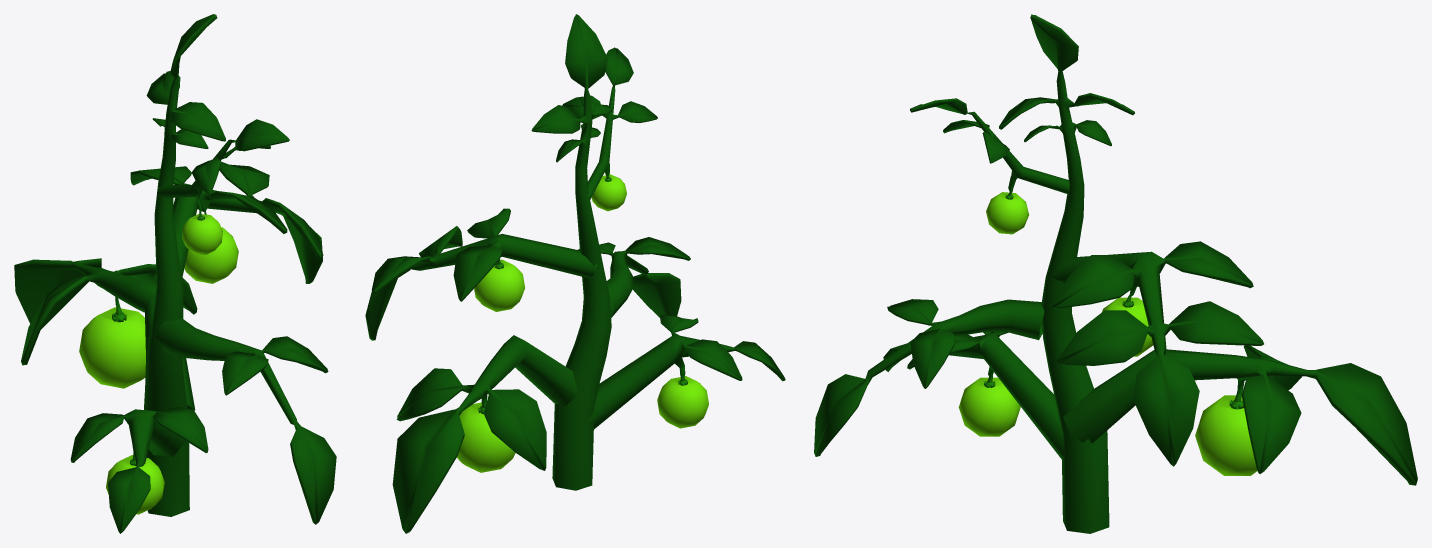
Rendered from fbx_tomato_plant_medium.fbx.
3 views of the same model, side by side, from view 1: azimuth 30°, elevation 25°; view 2: azimuth 150°, elevation 25°; view 3: azimuth 270°, elevation 25° (orthographic). The views are drawn at different scales.
Parts seen in each view (by area): view 1: LargePlant.005; view 2: LargePlant.005; view 3: LargePlant.005.
Part boxes in pixels (x1,y1,x2,y2): LargePlant.005: (14, 14, 336, 533); LargePlant.005: (365, 14, 785, 533); LargePlant.005: (814, 14, 1417, 533).
Bounding box in the file's own units: 53.48 × 77.9 × 81.86.
